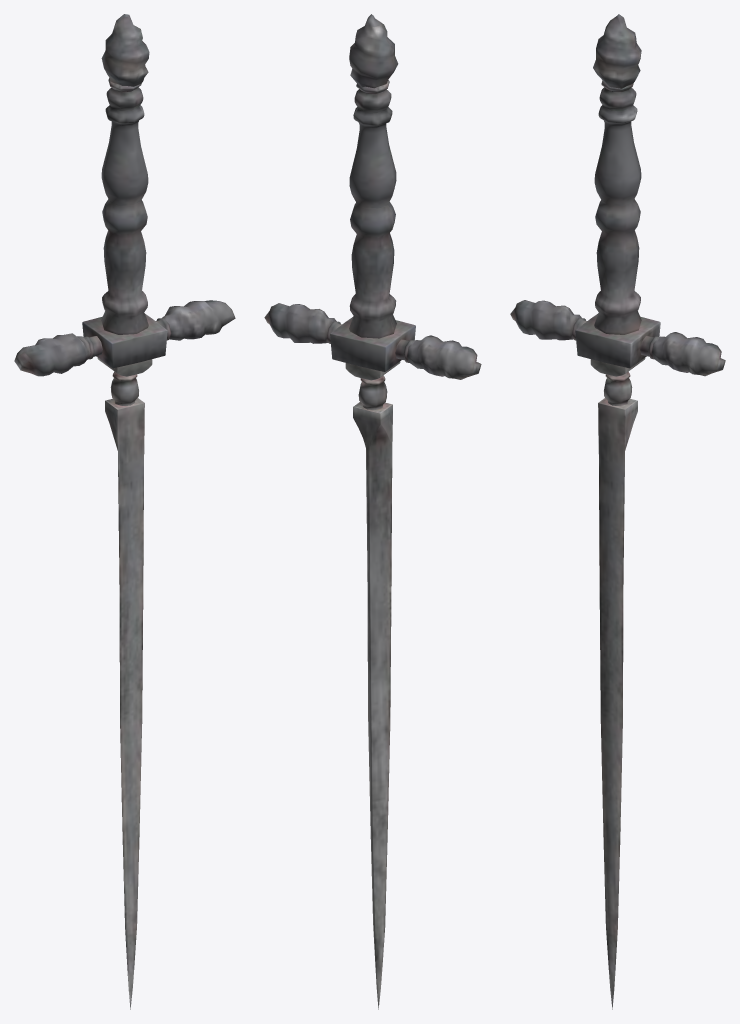
Rendered from weapon-wp_a_0103.glb.
The picture shows the model from 3 angles, left to right: view 1: azimuth 30°, elevation 25°; view 2: azimuth 150°, elevation 25°; view 3: azimuth 330°, elevation 25°; orthographic projection.
Parts seen in each view (by area): view 1: wp_a_0103_mesh; view 2: wp_a_0103_mesh; view 3: wp_a_0103_mesh.
Boxes of the visible parts, x1,y1,x2,y2 form: wp_a_0103_mesh: (14,14,235,1009); wp_a_0103_mesh: (264,14,481,1009); wp_a_0103_mesh: (510,14,725,1009).
Size of the model in its own units: 0.1785 by 0.8063 by 0.0446.
1 material, 1 textured.
